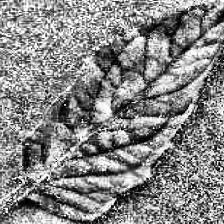leaf mold: (23, 0, 224, 217)
